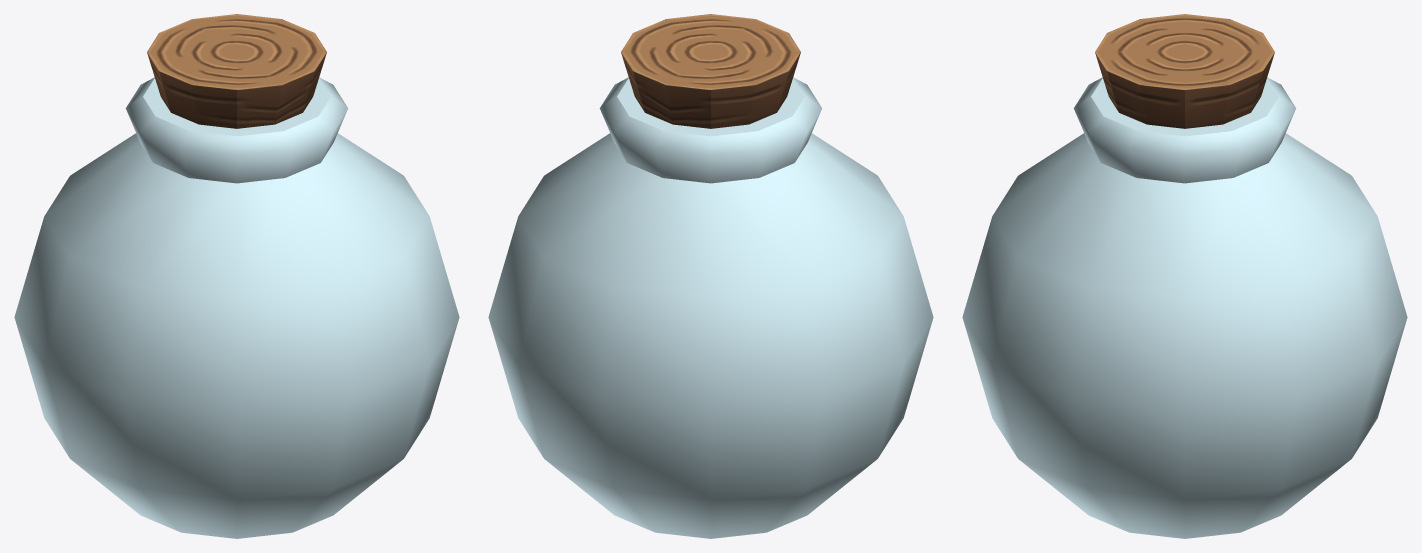
The model's file is potion_red.FBX.
3 renders of one model, left to right at view 1: azimuth 30°, elevation 25°; view 2: azimuth 150°, elevation 25°; view 3: azimuth 270°, elevation 25°, orthographic.
Parts seen in each view (by area): view 1: potion_red; view 2: potion_red; view 3: potion_red.
Boxes of the visible parts, x1,y1,x2,y2 form: potion_red: [14, 14, 459, 538]; potion_red: [488, 14, 933, 538]; potion_red: [962, 14, 1407, 538].
Size of the model in its own units: 34.35 by 39.76 by 34.35.
